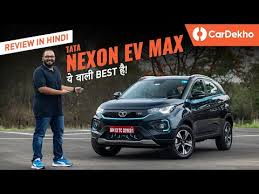Tata Nexon: (91, 74, 233, 158)
